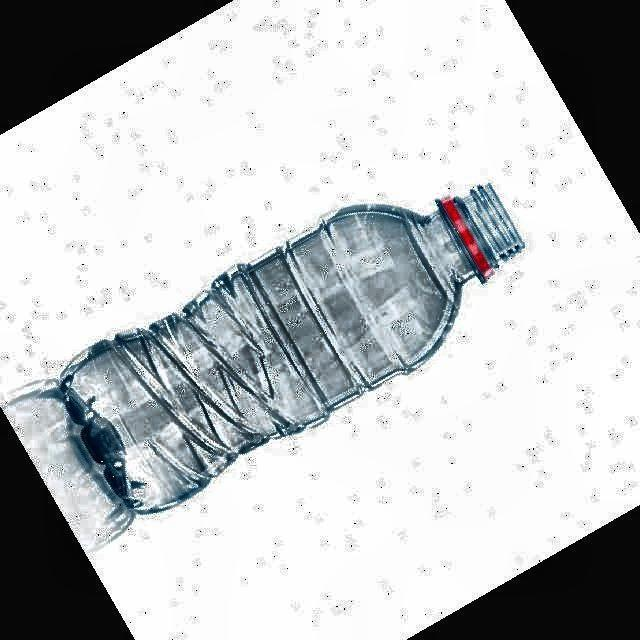plastic: (58, 186, 524, 512)
